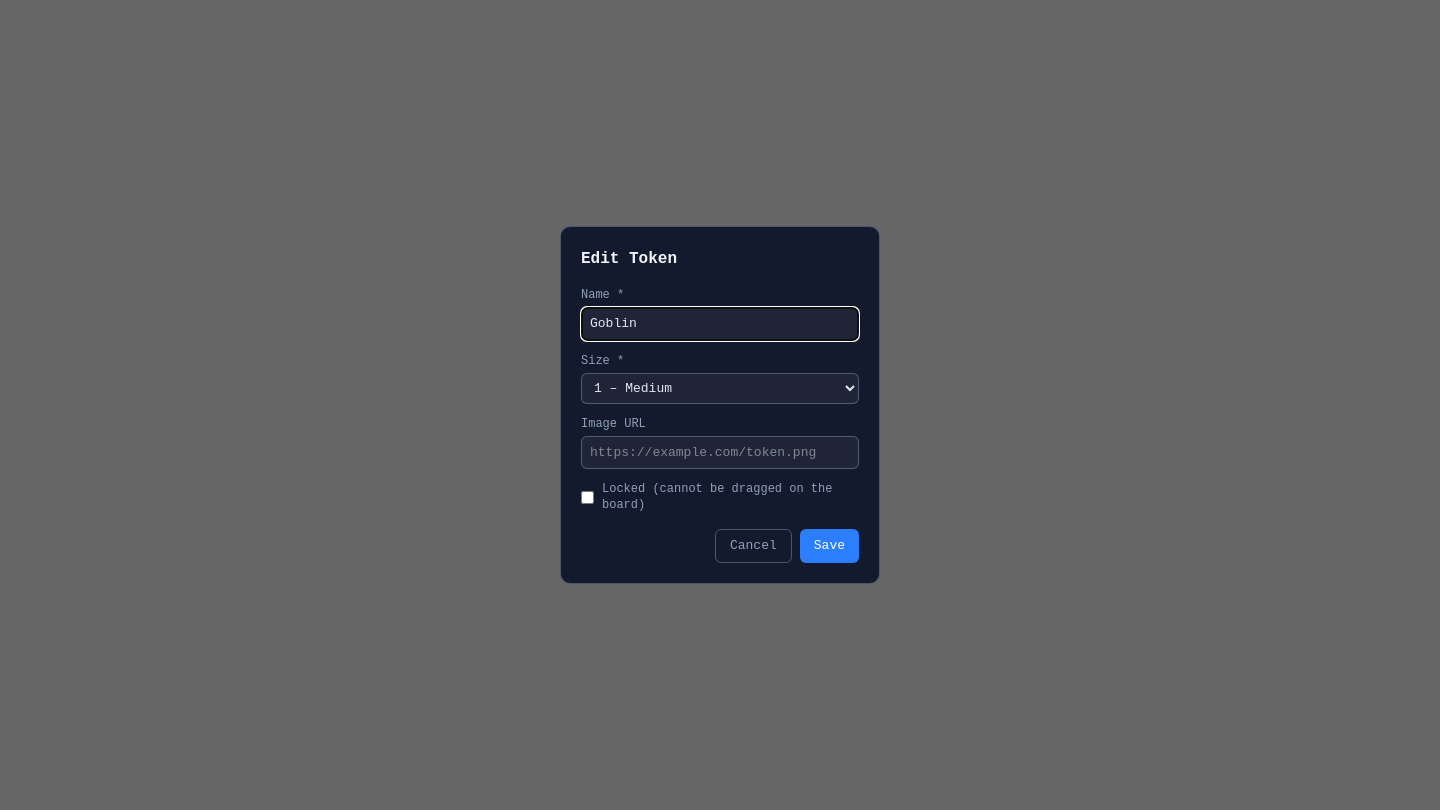
Test: EditTokenModal › form validation errors › shows a name validation error when name is cleared and form is submitted
This screenshot has width=1440, height=810.
Clear the field labelled "Name *" at [720, 324], box [581,307,859,341]
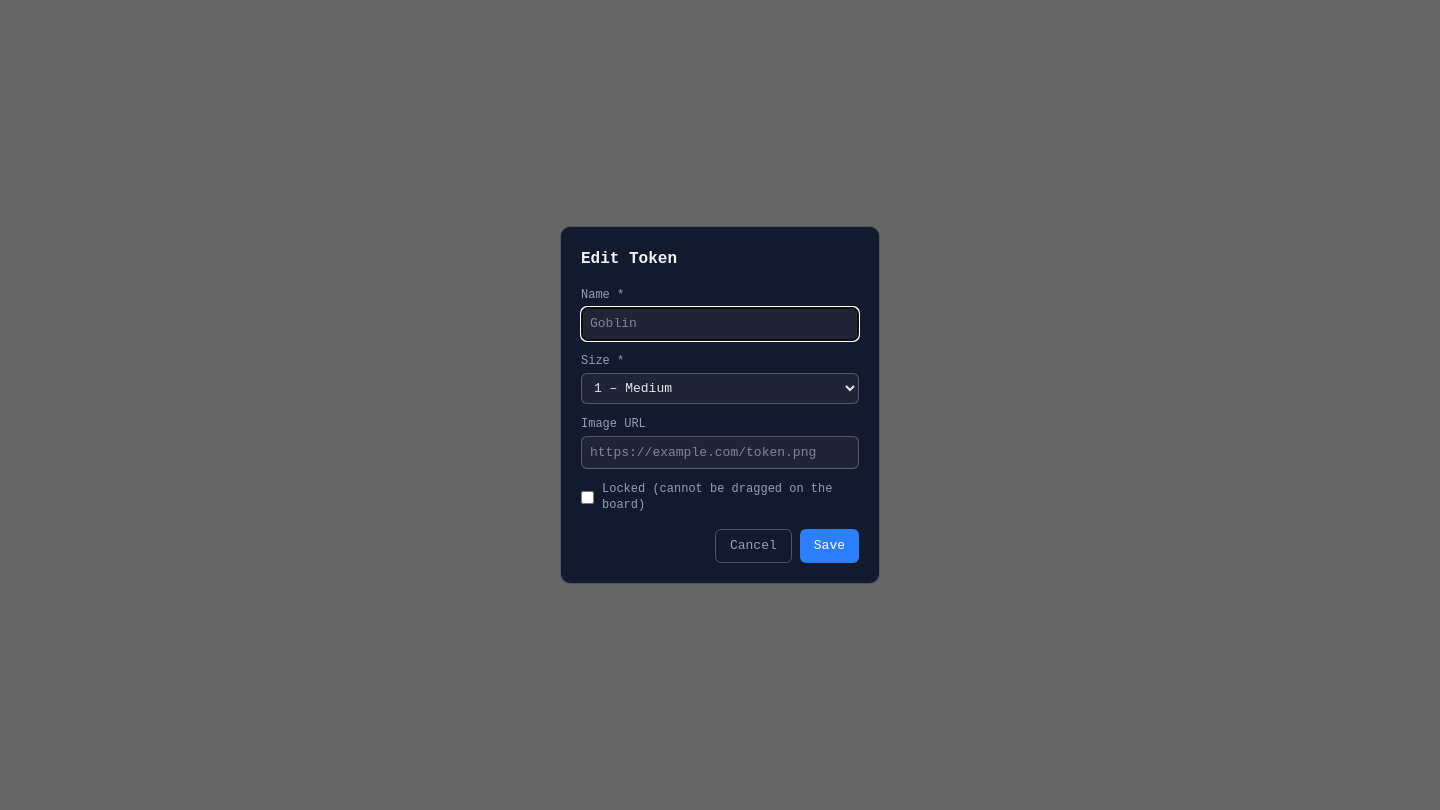
Click the button "Save" at [829, 546], box [800,529,859,563]
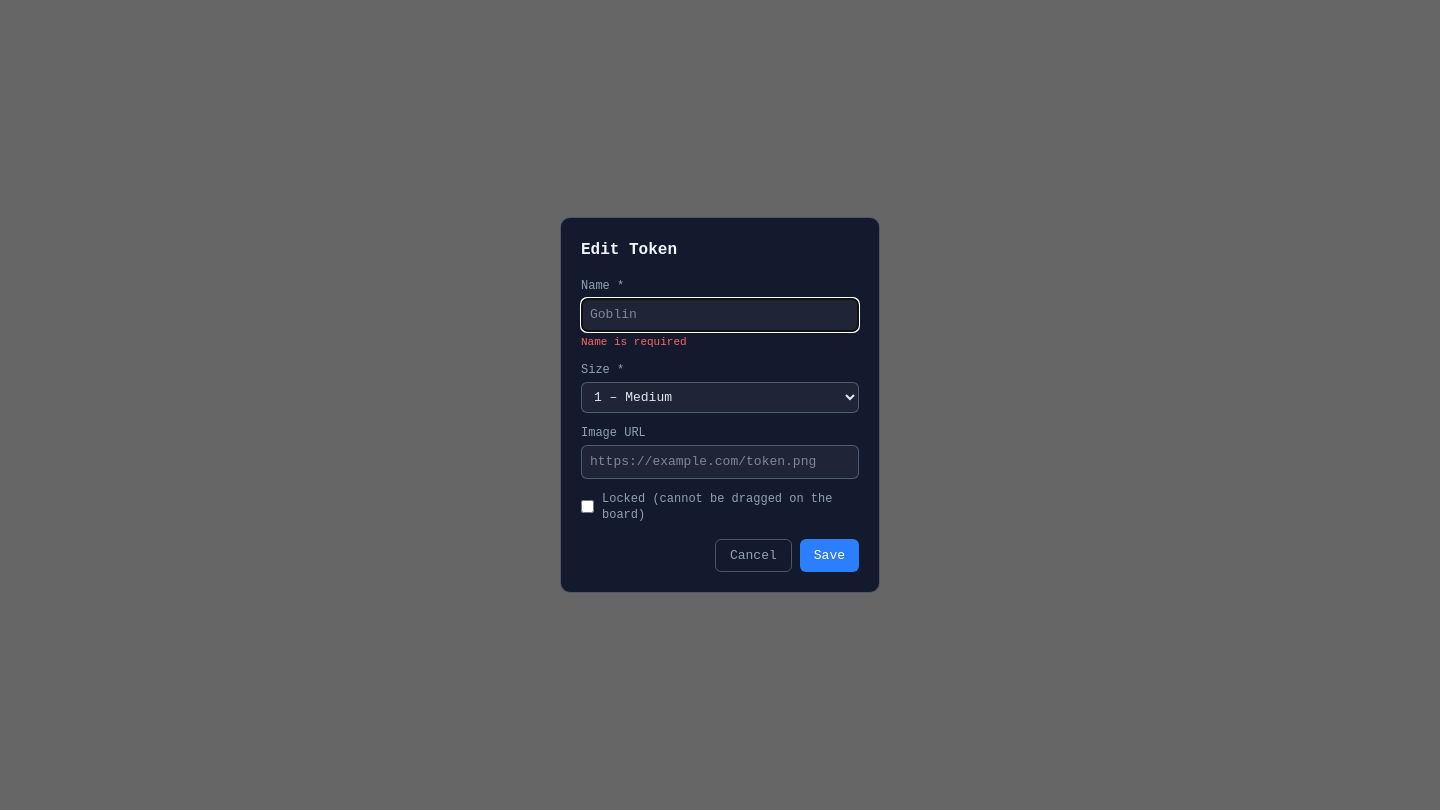
Result: the text "Name is required" is shown at [581,336,687,348]
